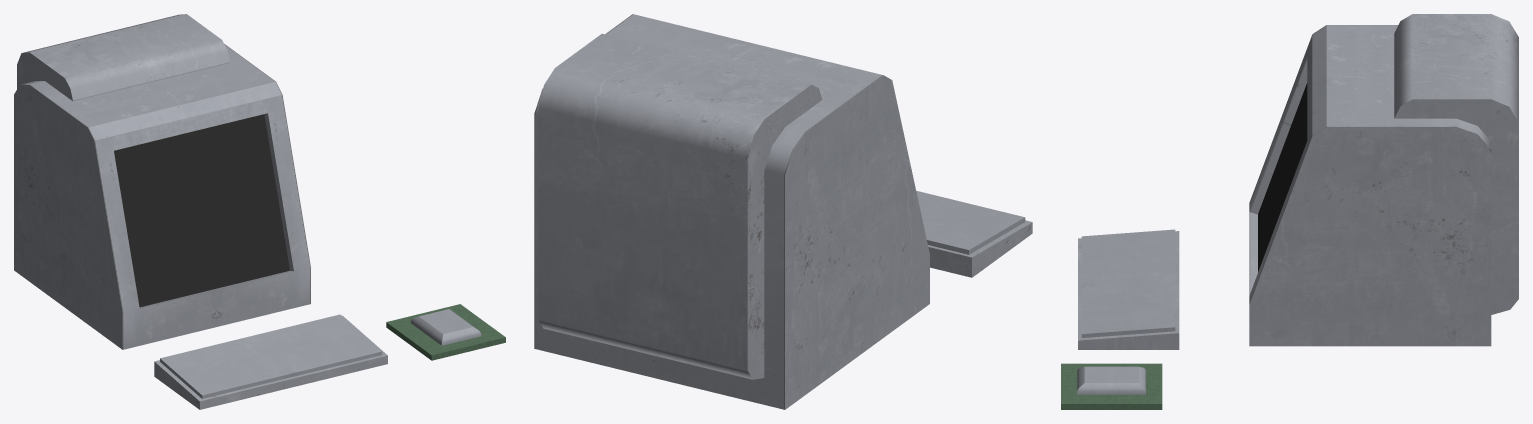
Rendered from Fbx_Prop_Lab_PC.fbx.
The picture shows the model from 3 angles, left to right: view 1: azimuth 30°, elevation 25°; view 2: azimuth 150°, elevation 25°; view 3: azimuth 270°, elevation 25°; orthographic projection. The views are drawn at different scales.
Parts seen in each view (by area): view 1: pCube59, pCube61, pCube60, pCube62, pCube63; view 2: pCube60, pCube59, pCube61; view 3: pCube59, pCube60, pCube61, pCube62, pCube63.
Boxes of the visible parts, x1,y1,x2,y2 form: pCube59: [14, 44, 310, 349]; pCube61: [154, 314, 387, 409]; pCube60: [17, 14, 229, 101]; pCube62: [386, 304, 505, 360]; pCube63: [411, 309, 481, 345]; pCube60: [538, 33, 822, 379]; pCube59: [534, 14, 929, 409]; pCube61: [916, 191, 1032, 277]; pCube59: [1249, 25, 1491, 346]; pCube60: [1394, 14, 1518, 314]; pCube61: [1078, 229, 1179, 349]; pCube62: [1061, 363, 1162, 409]; pCube63: [1077, 366, 1145, 394].
Size of the model in its own units: 159 by 111 by 189.
